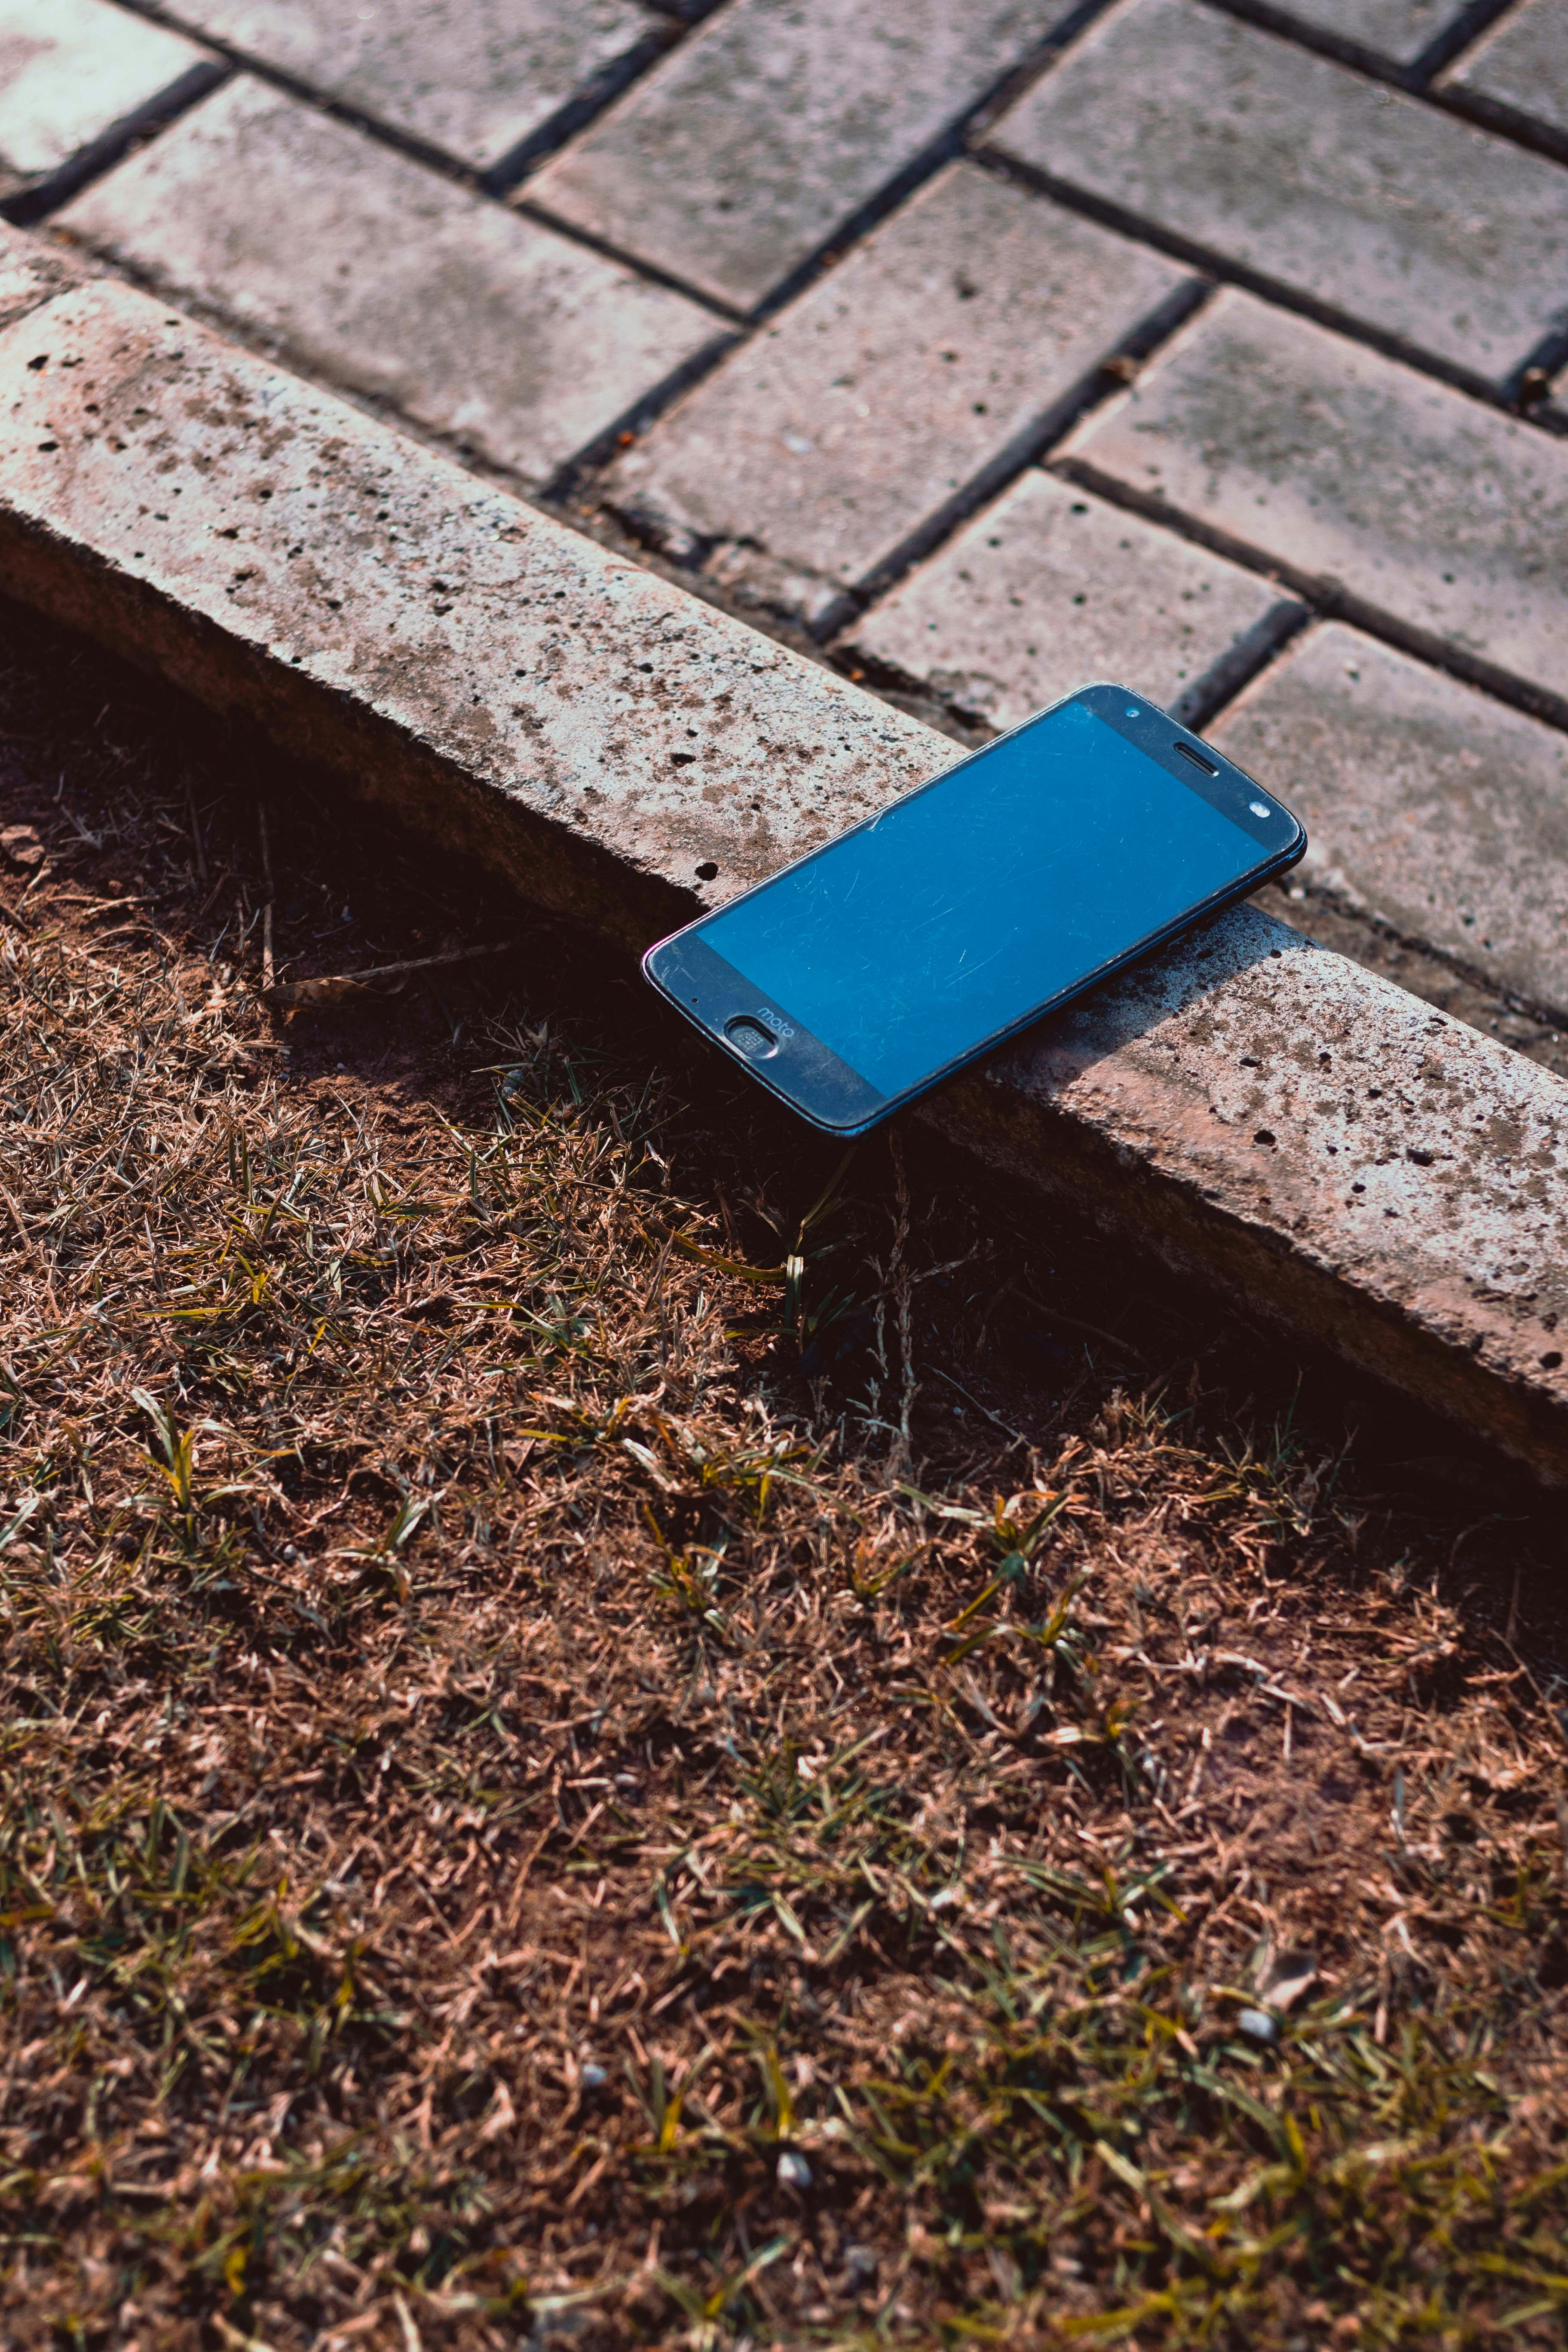p6: (609, 681, 1347, 1214)
